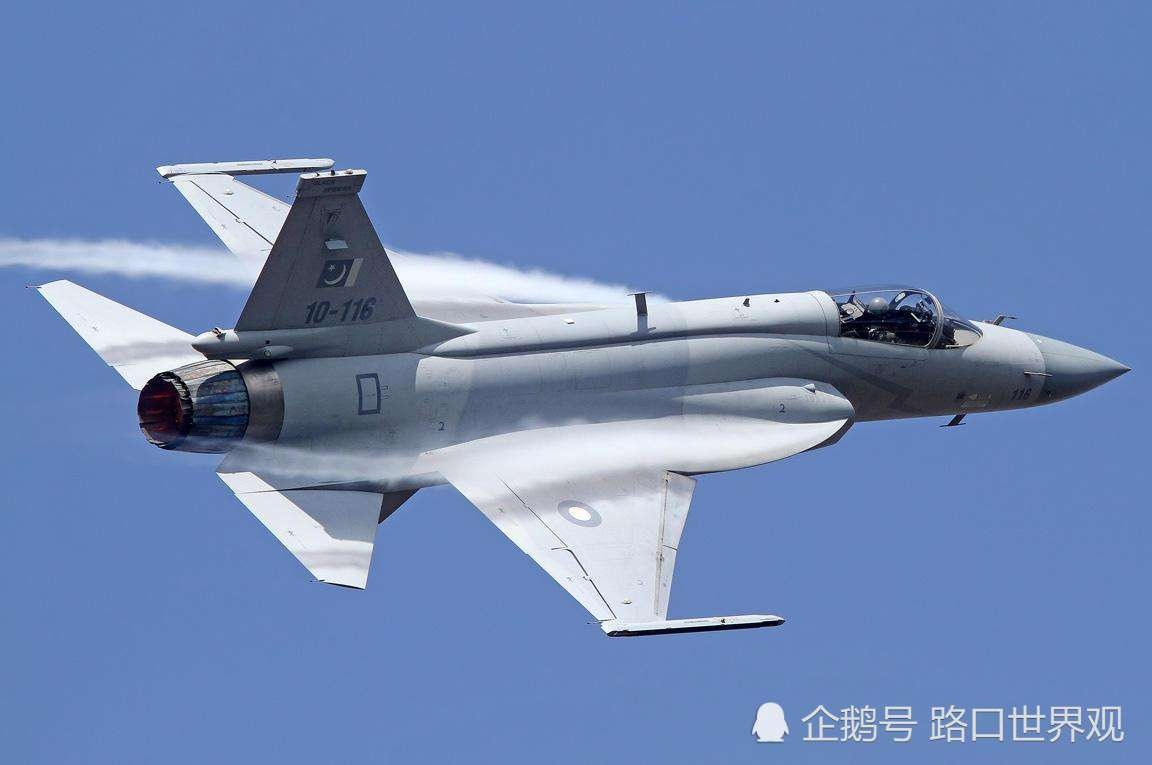airplane: (23, 148, 1129, 635)
